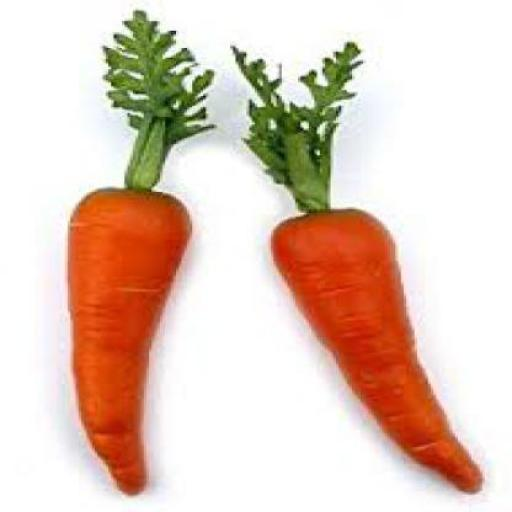biodegradable: (274, 207, 488, 493), (64, 186, 192, 493), (236, 41, 368, 213), (103, 10, 222, 189)
